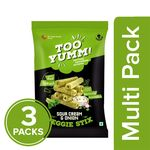plastic: (50, 22, 109, 137)
tooyumm: (51, 42, 92, 63)
wrapper: (32, 21, 108, 100)
